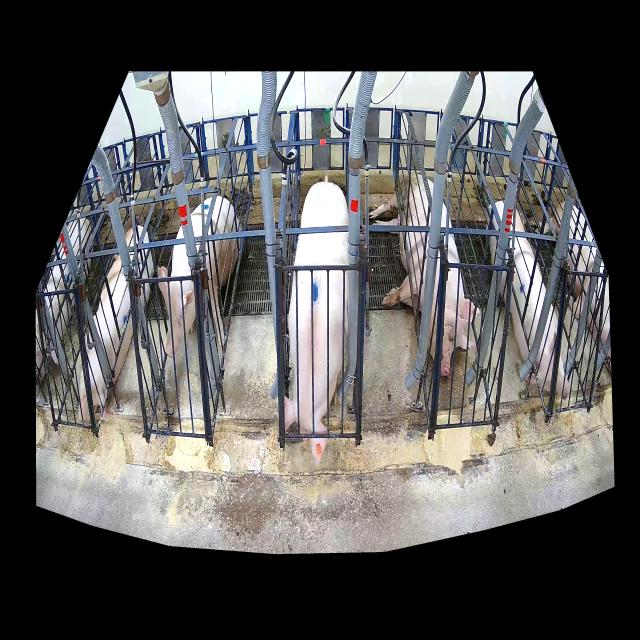pig: (370, 174, 475, 376), (284, 176, 348, 468), (486, 200, 570, 400), (79, 225, 154, 423), (158, 196, 240, 358)
